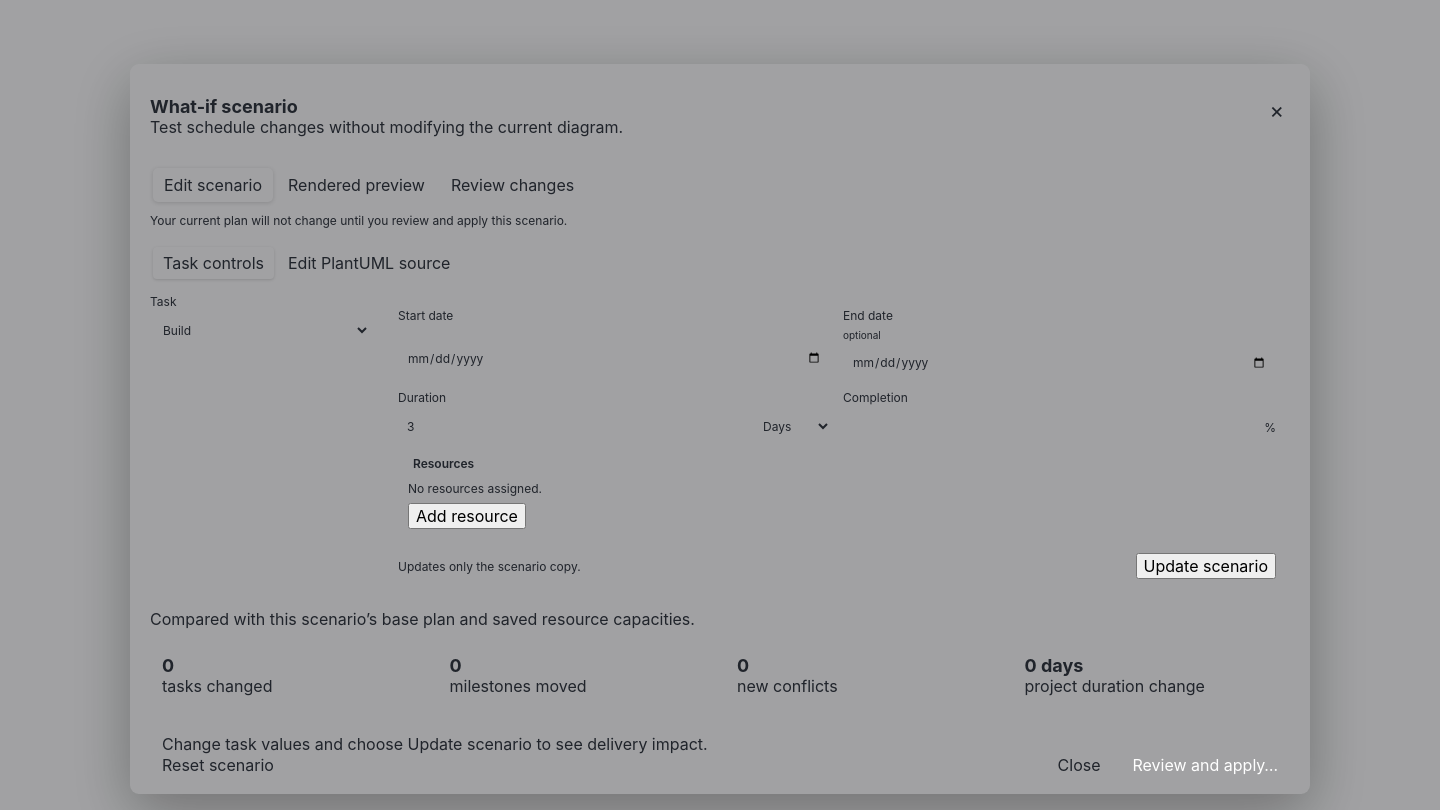
Test: DeliveryScenarioDialog › keeps the current preview read-only and makes the scenario preview interactive
This screenshot has width=1440, height=810.
Click the button "Rendered preview" at [356, 185], box left=277, top=168, right=436, bottom=202
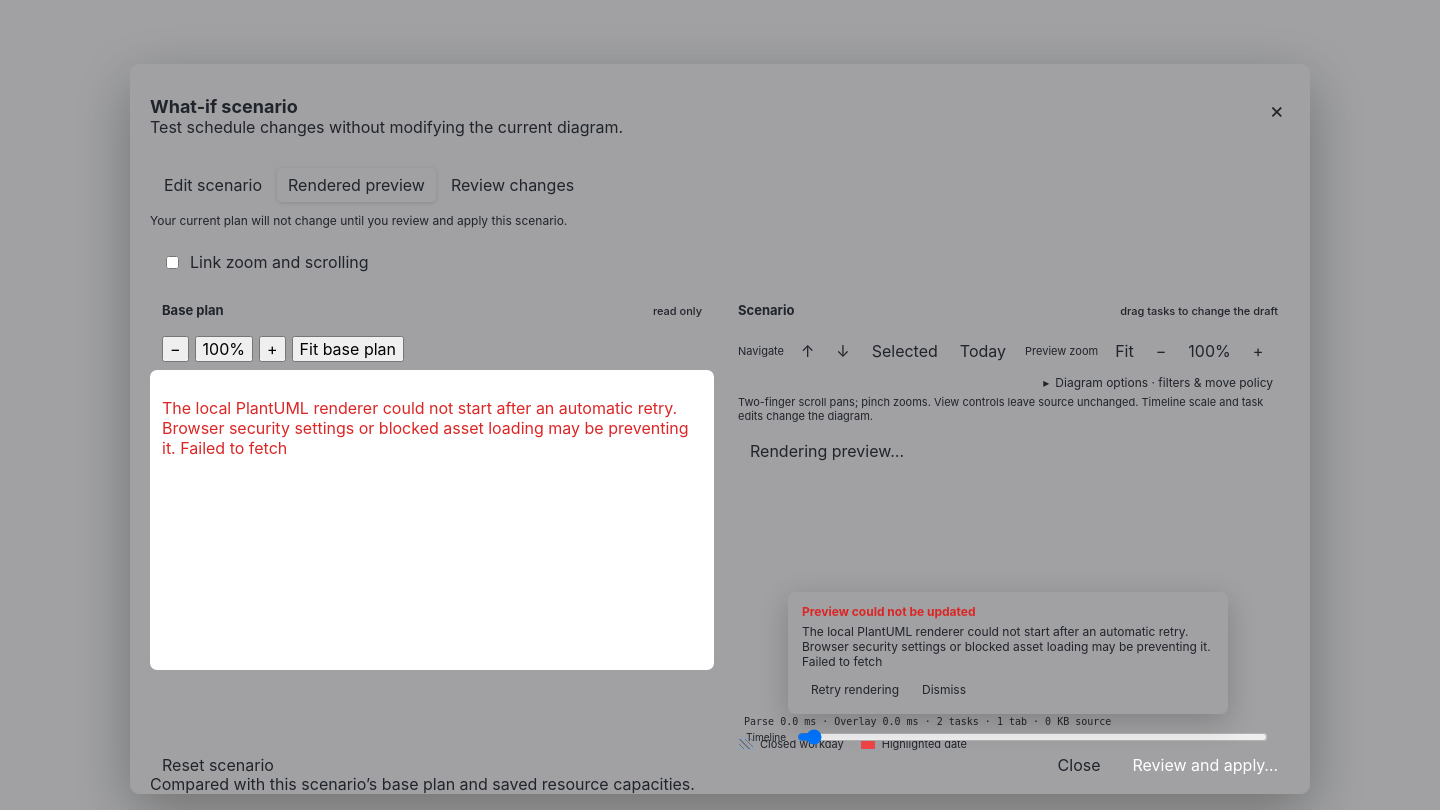
Now the element named "Diagram preview" is shown, box left=726, top=328, right=1290, bottom=758
